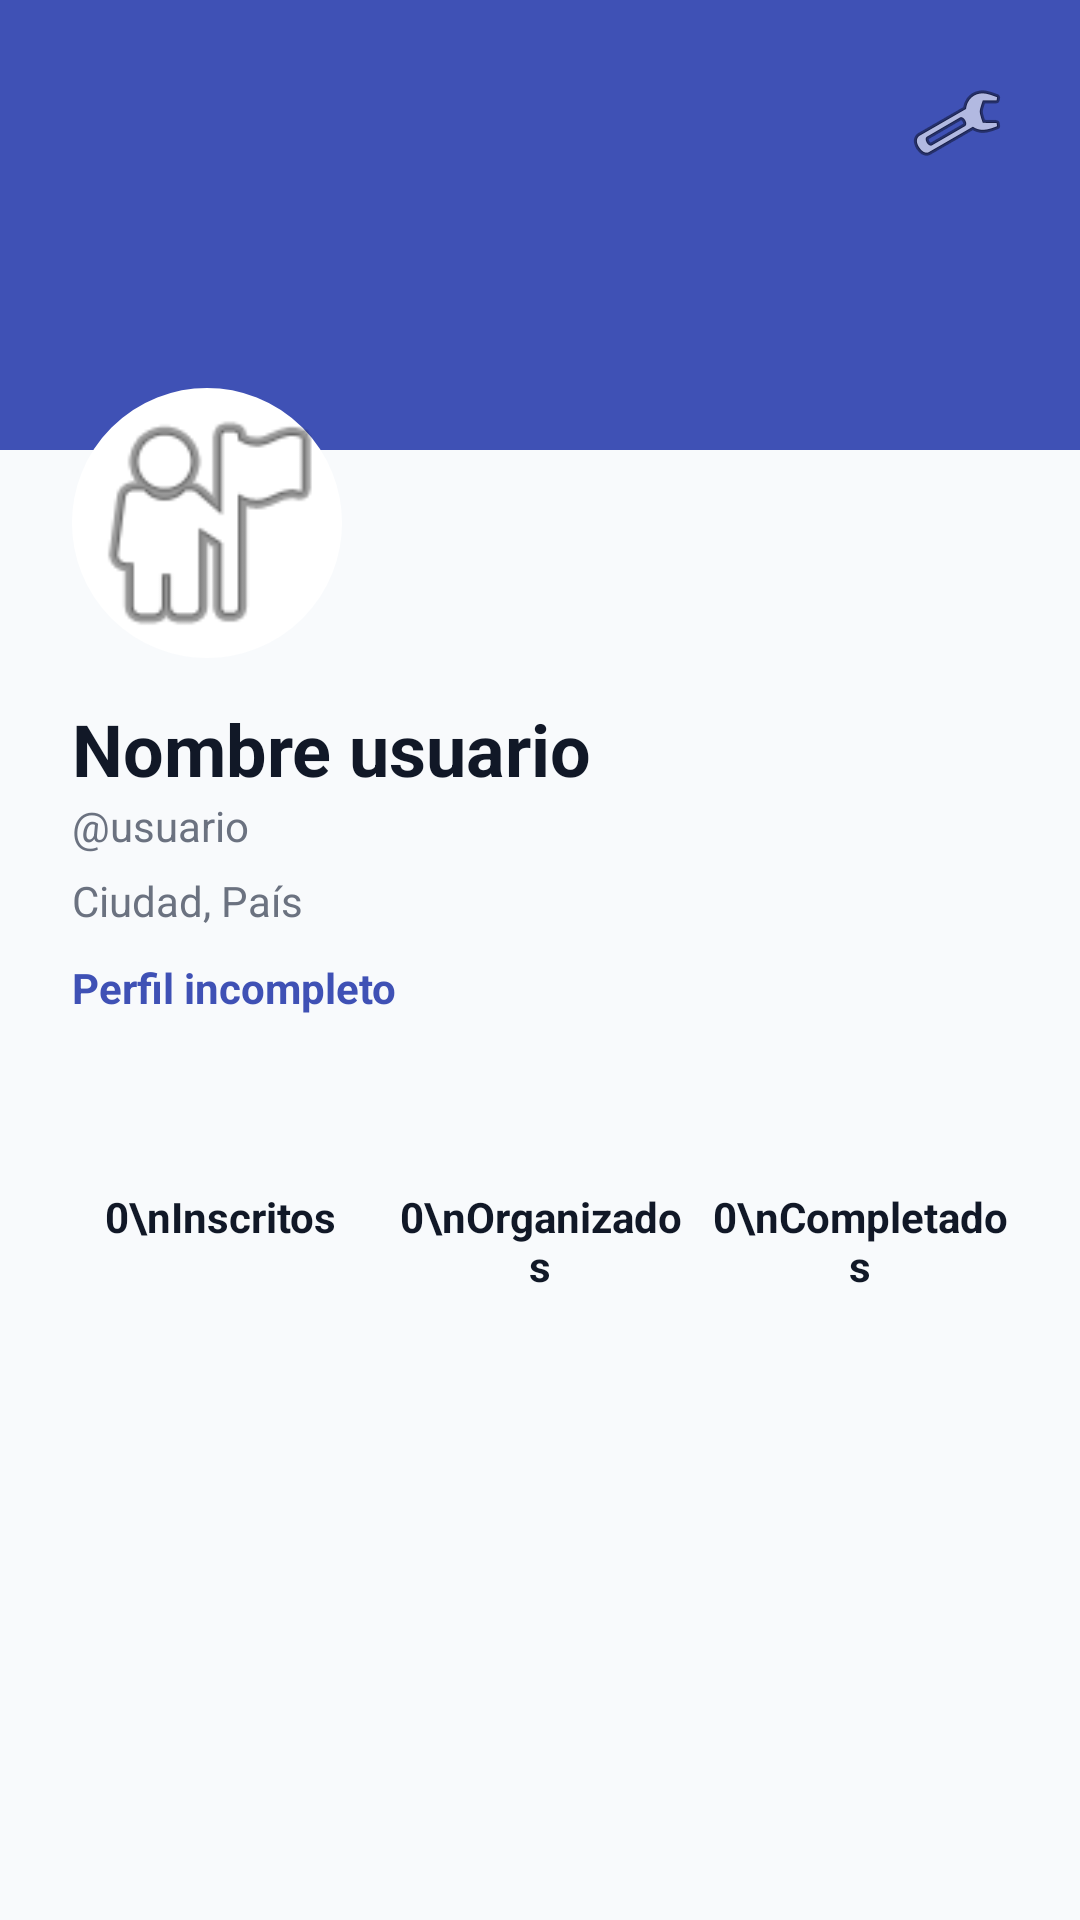

Screen size 1080 × 1920. Icon name, then its center in pixels as (x=x, y=y):
manage: (x=957, y=123)
